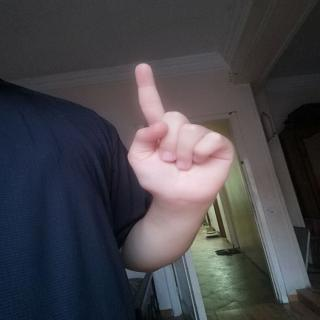BAA: (123, 59, 244, 210)
